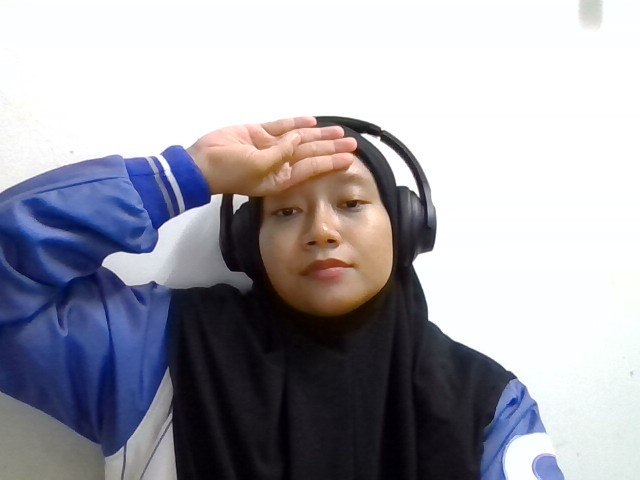Demam: (212, 117, 374, 225)
